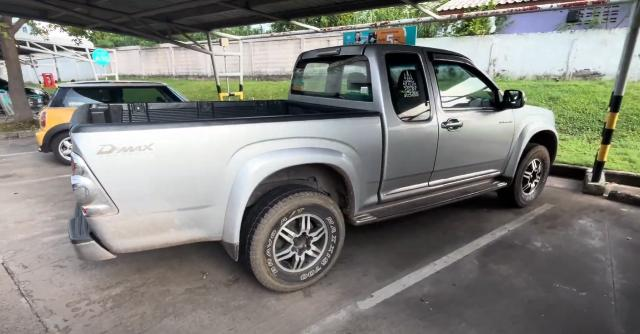pickup-truck: (71, 44, 558, 294)
